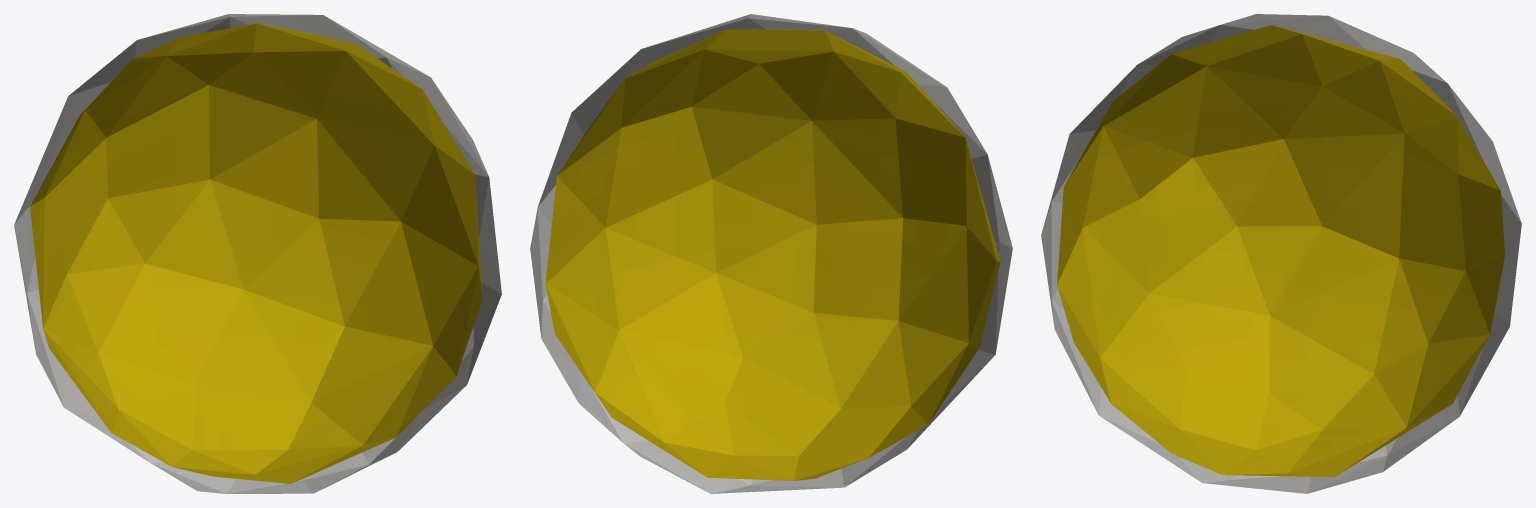
The model's file is item_quest_dball_1.glb.
3 views of the same model, side by side, from view 1: azimuth 30°, elevation 25°; view 2: azimuth 150°, elevation 25°; view 3: azimuth 270°, elevation 25° (orthographic).
Parts seen in each view (by area): view 1: DragonBall, DragonBall.001; view 2: DragonBall, DragonBall.001; view 3: DragonBall, DragonBall.001.
Part boxes in pixels (x1,y1,x2,y2): DragonBall: [30, 23, 482, 483]; DragonBall.001: [14, 14, 501, 493]; DragonBall: [545, 29, 1000, 480]; DragonBall.001: [530, 14, 1012, 493]; DragonBall: [1057, 25, 1505, 477]; DragonBall.001: [1041, 14, 1521, 493].
Bounding box in the file's own units: 0.3543 × 0.3537 × 0.3537.
Materials: 2 (2 with a texture image).
